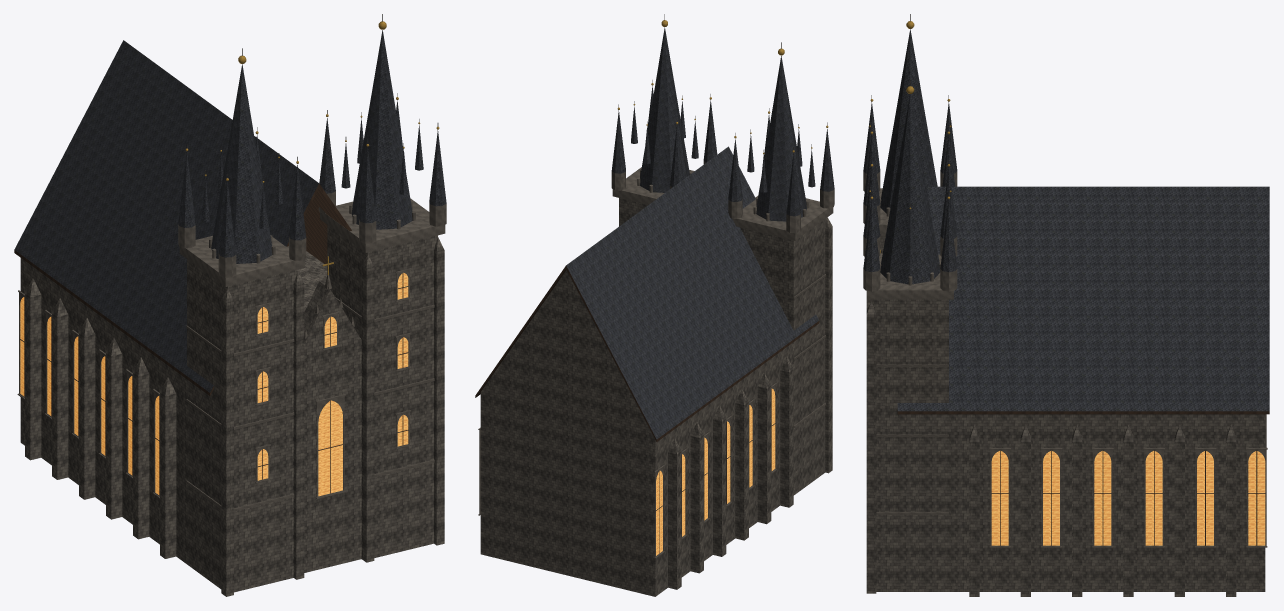
File: tyn_church.gltf
The picture shows the model from 3 angles, left to right: view 1: azimuth 30°, elevation 25°; view 2: azimuth 150°, elevation 25°; view 3: azimuth 270°, elevation 25°; orthographic projection. The views are drawn at different scales.
Visible parts, largest first — view 1: tyn_church_mesh; view 2: tyn_church_mesh; view 3: tyn_church_mesh.
Boxes of the visible parts, x1,y1,x2,y2 form: tyn_church_mesh: [14, 14, 446, 596]; tyn_church_mesh: [475, 14, 834, 596]; tyn_church_mesh: [863, 14, 1269, 596].
Size of what is drawn, in the model's own units: 29.8 by 64.04 by 47.5.
Materials: 7 (7 with a texture image).
